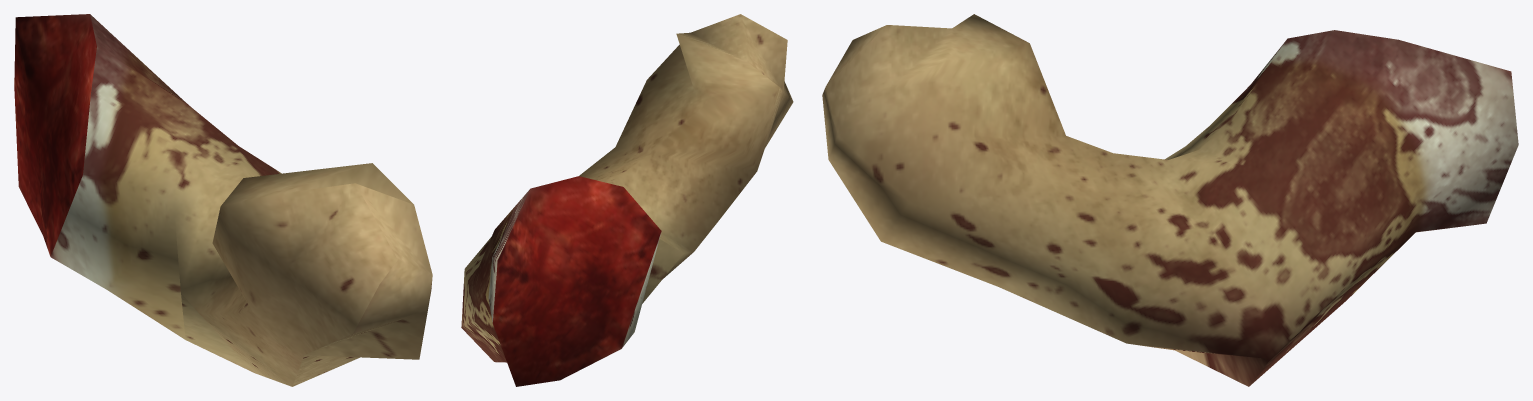
Rendered from Prop_DollDestoyedArm_model.fbx.
3 renders of one model, left to right at view 1: azimuth 30°, elevation 25°; view 2: azimuth 150°, elevation 25°; view 3: azimuth 270°, elevation 25°, orthographic. The views are drawn at different scales.
Parts seen in each view (by area): view 1: Prop_DollDestoyedArm; view 2: Prop_DollDestoyedArm; view 3: Prop_DollDestoyedArm.
Part boxes in pixels (box(x1,y1,x2,y2)): Prop_DollDestoyedArm: box(14, 14, 432, 386); Prop_DollDestoyedArm: box(461, 14, 793, 386); Prop_DollDestoyedArm: box(822, 14, 1518, 386).
Size of the model in its own units: 2.38 by 3.02 by 6.2.
